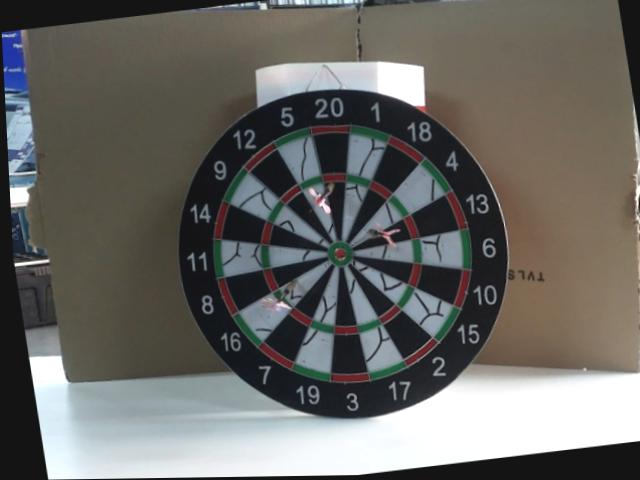single_16: (288, 264, 332, 302)
single_20: (327, 185, 346, 236)
single_4: (347, 207, 397, 242)
